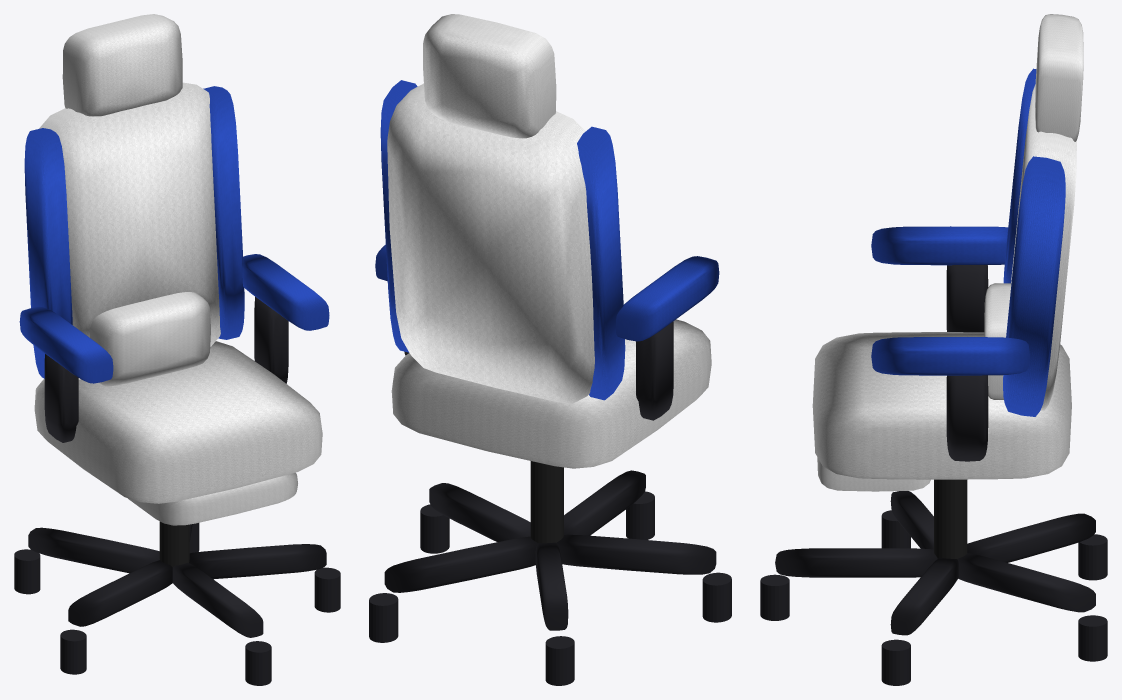
3 views of the same model, side by side, from view 1: azimuth 30°, elevation 25°; view 2: azimuth 150°, elevation 25°; view 3: azimuth 270°, elevation 25° (orthographic). The views are drawn at different scales.
Parts seen in each view (by area): view 1: 14 backrest, 13 seat, 18 headrest, 17 lumbar_pillow, 15 backrest_trim_left, 16 backrest_trim_right, 21 armrest_left_pad, 12 footrest, 22 armrest_right_pad, 7 base_spoke_2, 9 base_spoke_4, 10 base_spoke_5 (+8 smaller); view 2: 14 backrest, 13 seat, 18 headrest, 15 backrest_trim_left, 10 base_spoke_5, 8 base_spoke_3, 21 armrest_left_pad, 7 base_spoke_2, 19 armrest_left_support, 6 base_spoke_1, 11 gas_lift, 9 base_spoke_4 (+6 smaller); view 3: 13 seat, 16 backrest_trim_right, 22 armrest_right_pad, 18 headrest, 21 armrest_left_pad, 6 base_spoke_1, 14 backrest, 8 base_spoke_3, 20 armrest_right_support, 9 base_spoke_4, 19 armrest_left_support, 11 gas_lift (+10 smaller).
Boxes of the visible parts, x1=… form: 14 backrest: x1=39, y1=82, x2=220, y2=379; 13 seat: x1=34, y1=341, x2=322, y2=503; 18 headrest: x1=62, y1=14, x2=182, y2=116; 17 lumbar_pillow: x1=90, y1=292, x2=210, y2=386; 15 backrest_trim_left: x1=24, y1=128, x2=72, y2=378; 16 backrest_trim_right: x1=203, y1=86, x2=244, y2=339; 21 armrest_left_pad: x1=19, y1=306, x2=113, y2=383; 12 footrest: x1=127, y1=472, x2=297, y2=525; 22 armrest_right_pad: x1=242, y1=254, x2=329, y2=330; 7 base_spoke_2: x1=189, y1=544, x2=326, y2=579; 9 base_spoke_4: x1=28, y1=527, x2=159, y2=573; 10 base_spoke_5: x1=68, y1=560, x2=172, y2=626; 14 backrest: x1=387, y1=83, x2=594, y2=403; 13 seat: x1=391, y1=319, x2=711, y2=468; 18 headrest: x1=423, y1=14, x2=556, y2=138; 15 backrest_trim_left: x1=577, y1=126, x2=625, y2=400; 10 base_spoke_5: x1=557, y1=534, x2=716, y2=574; 8 base_spoke_3: x1=384, y1=536, x2=538, y2=592; 21 armrest_left_pad: x1=616, y1=256, x2=719, y2=341; 7 base_spoke_2: x1=429, y1=483, x2=530, y2=541; 19 armrest_left_support: x1=636, y1=321, x2=673, y2=420; 6 base_spoke_1: x1=564, y1=470, x2=645, y2=535; 11 gas_lift: x1=530, y1=461, x2=563, y2=543; 9 base_spoke_4: x1=535, y1=542, x2=568, y2=630; 13 seat: x1=812, y1=332, x2=1071, y2=479; 16 backrest_trim_right: x1=1003, y1=156, x2=1065, y2=416; 22 armrest_right_pad: x1=871, y1=337, x2=1029, y2=375; 18 headrest: x1=1035, y1=14, x2=1083, y2=141; 21 armrest_left_pad: x1=871, y1=226, x2=1008, y2=265; 6 base_spoke_1: x1=775, y1=548, x2=937, y2=577; 14 backrest: x1=1011, y1=84, x2=1076, y2=410; 8 base_spoke_3: x1=957, y1=553, x2=1095, y2=612; 20 armrest_right_support: x1=946, y1=375, x2=988, y2=461; 9 base_spoke_4: x1=967, y1=513, x2=1095, y2=562; 19 armrest_left_support: x1=946, y1=265, x2=988, y2=332; 11 gas_lift: x1=934, y1=479, x2=967, y2=559.
Bounding box in the file's own units: 0.52 × 1 × 0.54.
Materials: 4 (2 with a texture image).
